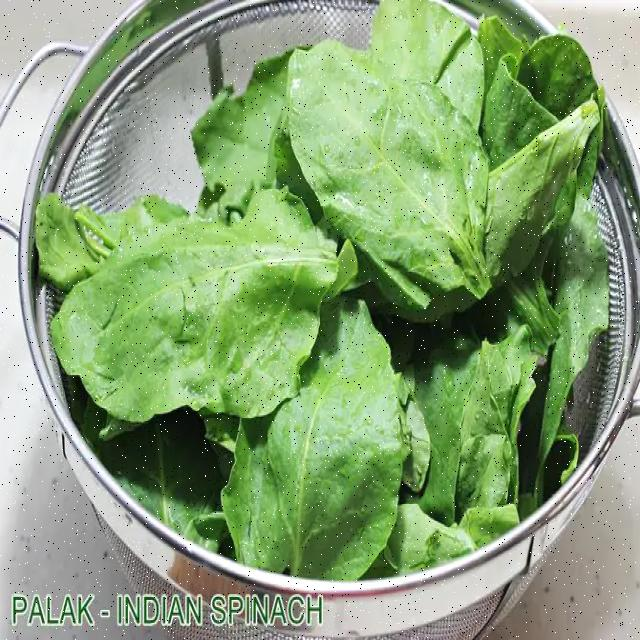Indian Spinach: (106, 92, 530, 462)
